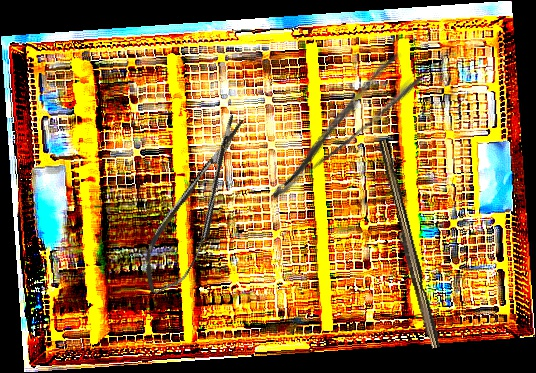Dressing Forceps: (249, 49, 425, 203)
Micro Scissor: (130, 109, 264, 303)
Scalpel Handle: (372, 138, 444, 351)
